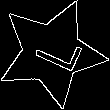L_NW: (22, 28, 81, 78)
